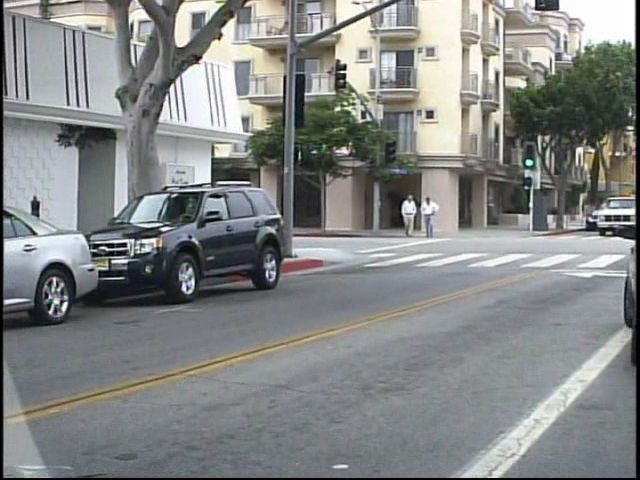person: (418, 192, 440, 242), (396, 190, 416, 243)
